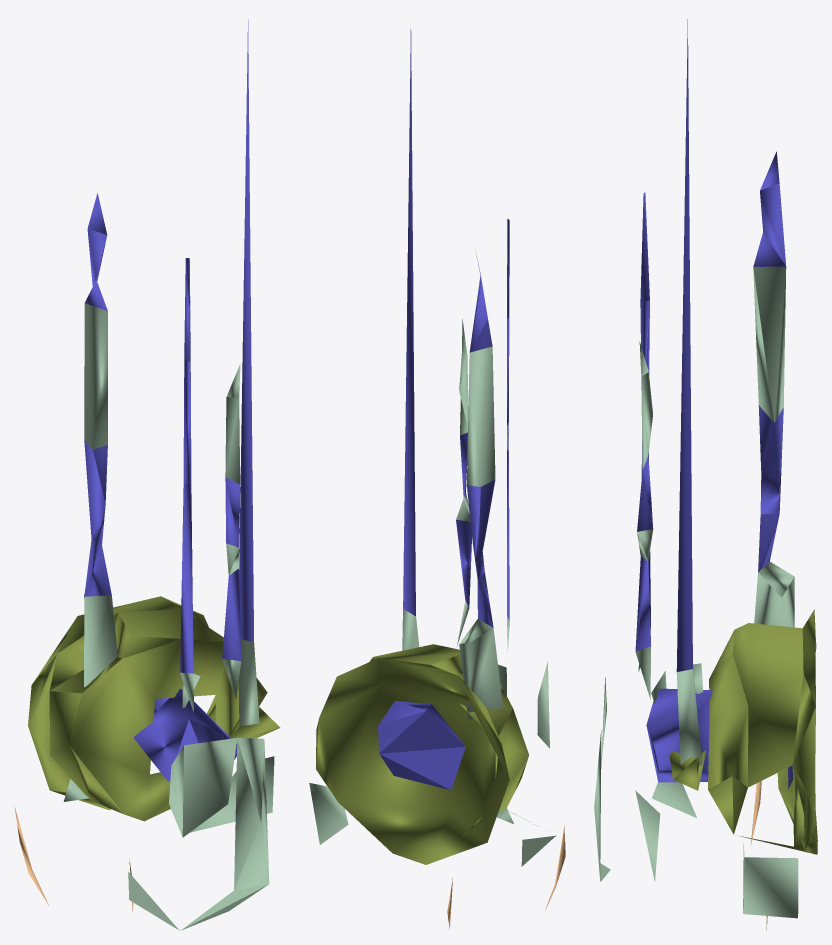
File: antenna_b_lod4.glb
The picture shows the model from 3 angles, left to right: view 1: azimuth 30°, elevation 25°; view 2: azimuth 150°, elevation 25°; view 3: azimuth 270°, elevation 25°; orthographic projection. The views are drawn at different scales.
Size of the model in its own units: 8.34 by 28.92 by 6.13.
